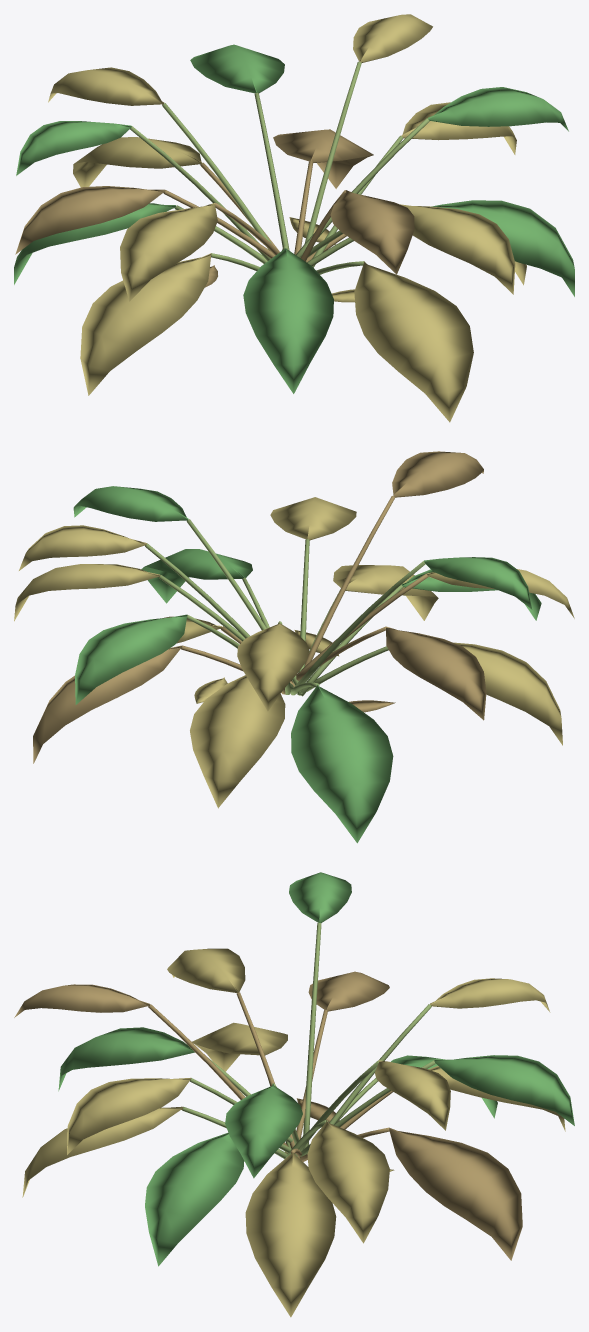
The model's file is SM_PlantPotWilted.fbx.
3 renders of one model, top to bottom at view 1: azimuth 30°, elevation 25°; view 2: azimuth 150°, elevation 25°; view 3: azimuth 270°, elevation 25°, orthographic. The views are drawn at different scales.
Visible parts, largest first — view 1: PlantPotWilted; view 2: PlantPotWilted; view 3: PlantPotWilted.
Part boxes in pixels (x1,y1,x2,y2): PlantPotWilted: (14, 14, 574, 422); PlantPotWilted: (14, 451, 574, 843); PlantPotWilted: (14, 872, 574, 1317).
Size of the model in its own units: 1.59 by 0.7463 by 1.59.
